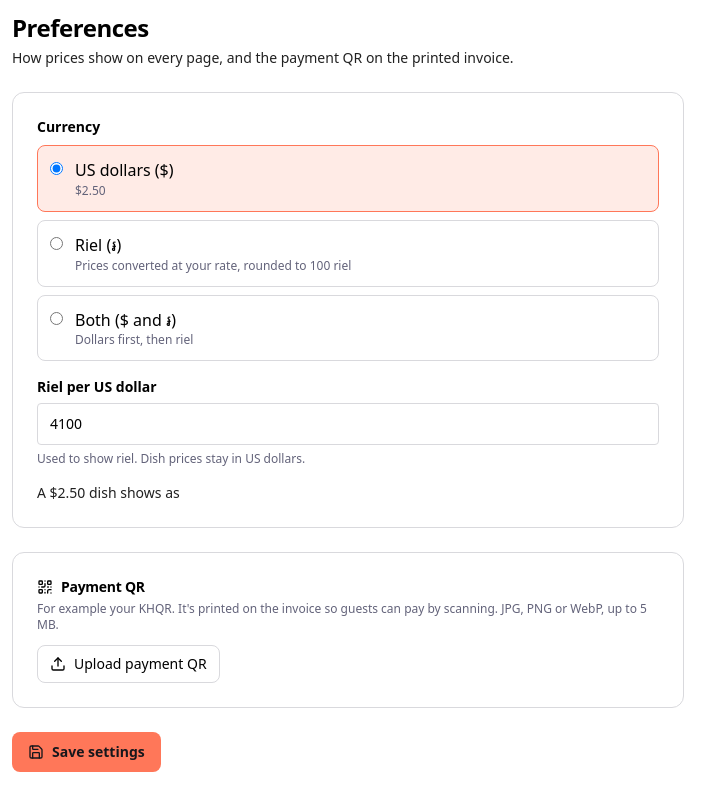
the owner's preferences (VM-24) › refuses a rate that isn't a whole number between 1,000 and 10,000
Replace the text in the field labelled "Riel per US dollar" with "41.5" at [348, 424], box 37,403 -> 659,445
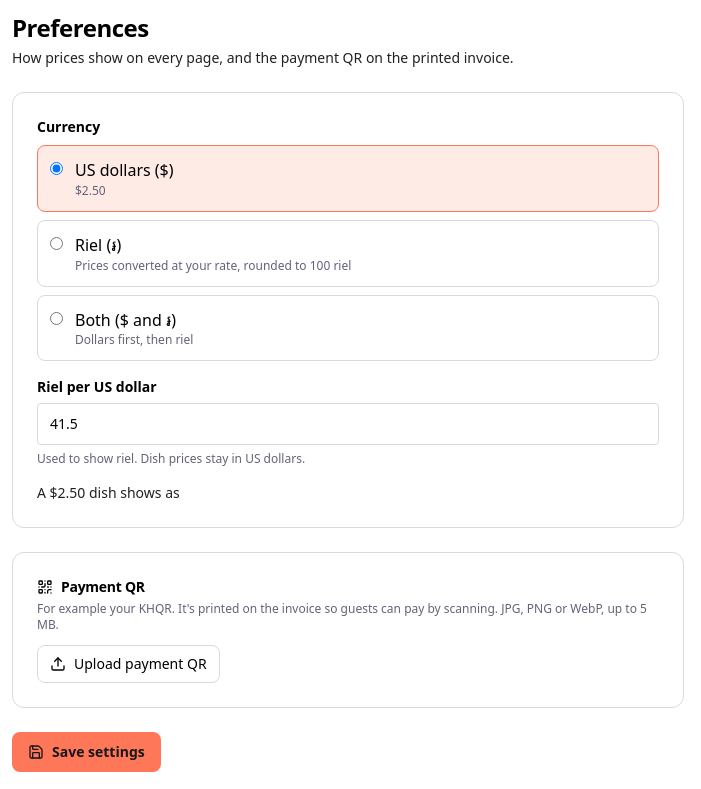
Click the button "Save settings".
click(86, 752)  # box 12,732 -> 161,772
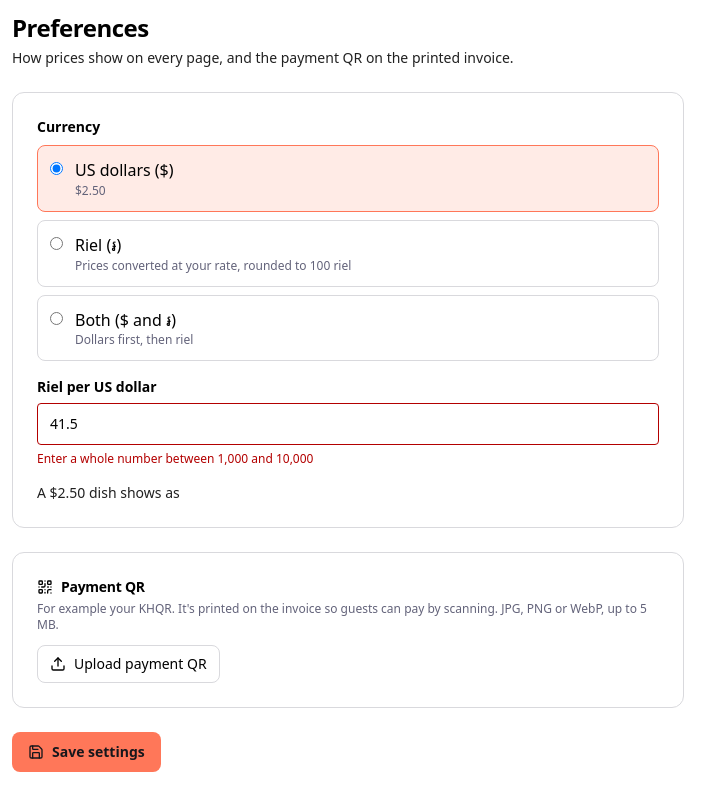
Result: the text "Enter a whole number between 1,000 and 10,000" is shown at 37,450 -> 314,467
